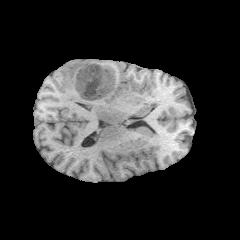glioma: (61, 64, 131, 105)
